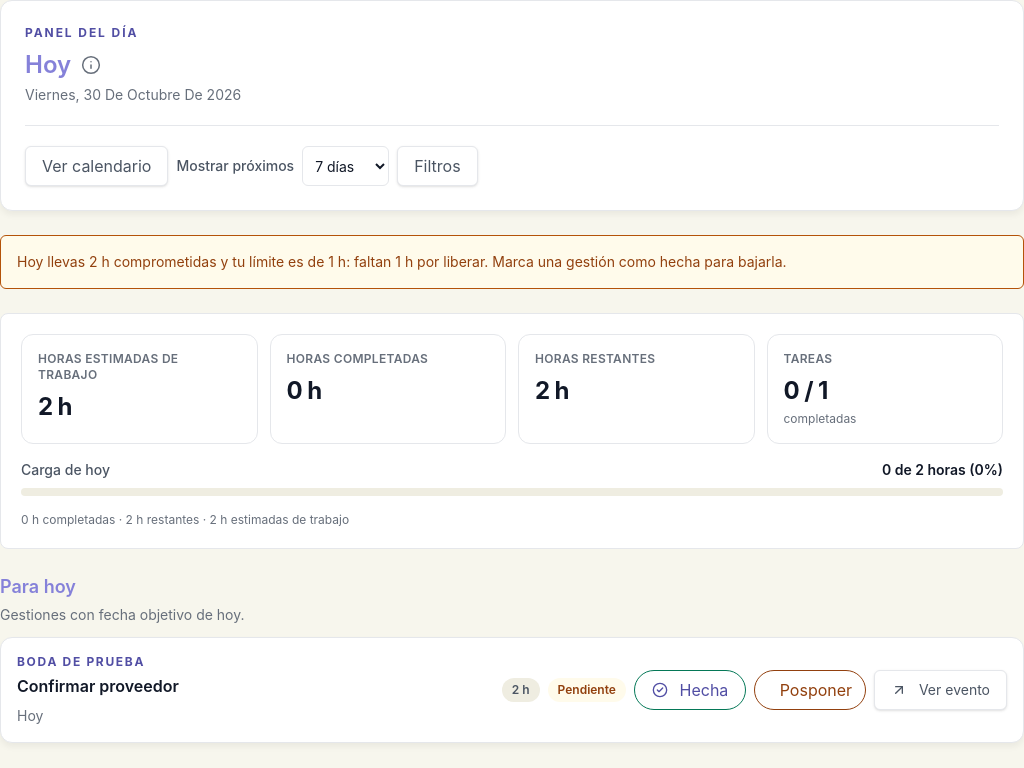
it: panel de hoy: registrar una gestión › libera las horas del día al completar una gestión
The width and height of the screenshot is (1024, 768).
Click the button "Hecha" at (690, 690), box [634,670,746,710]
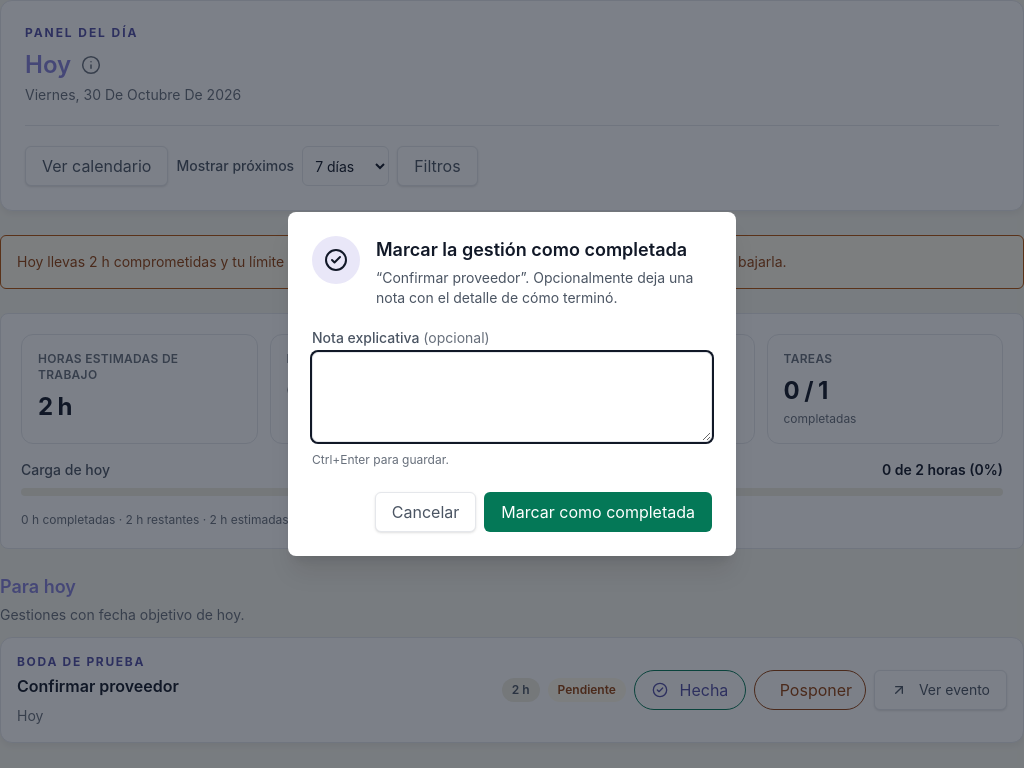
Expected: the button "Marcar como completada" is shown
Click the button "Marcar como completada" at (598, 512), box [484,492,712,532]
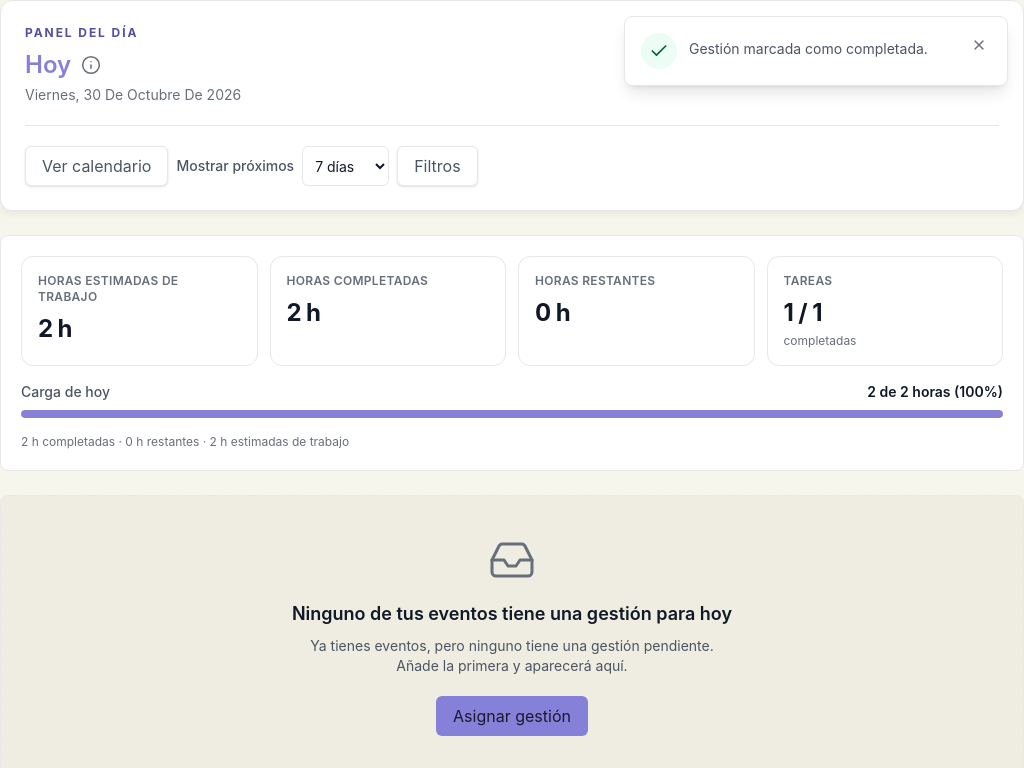
Expected: the text "tu límite es de 1 h" is gone
